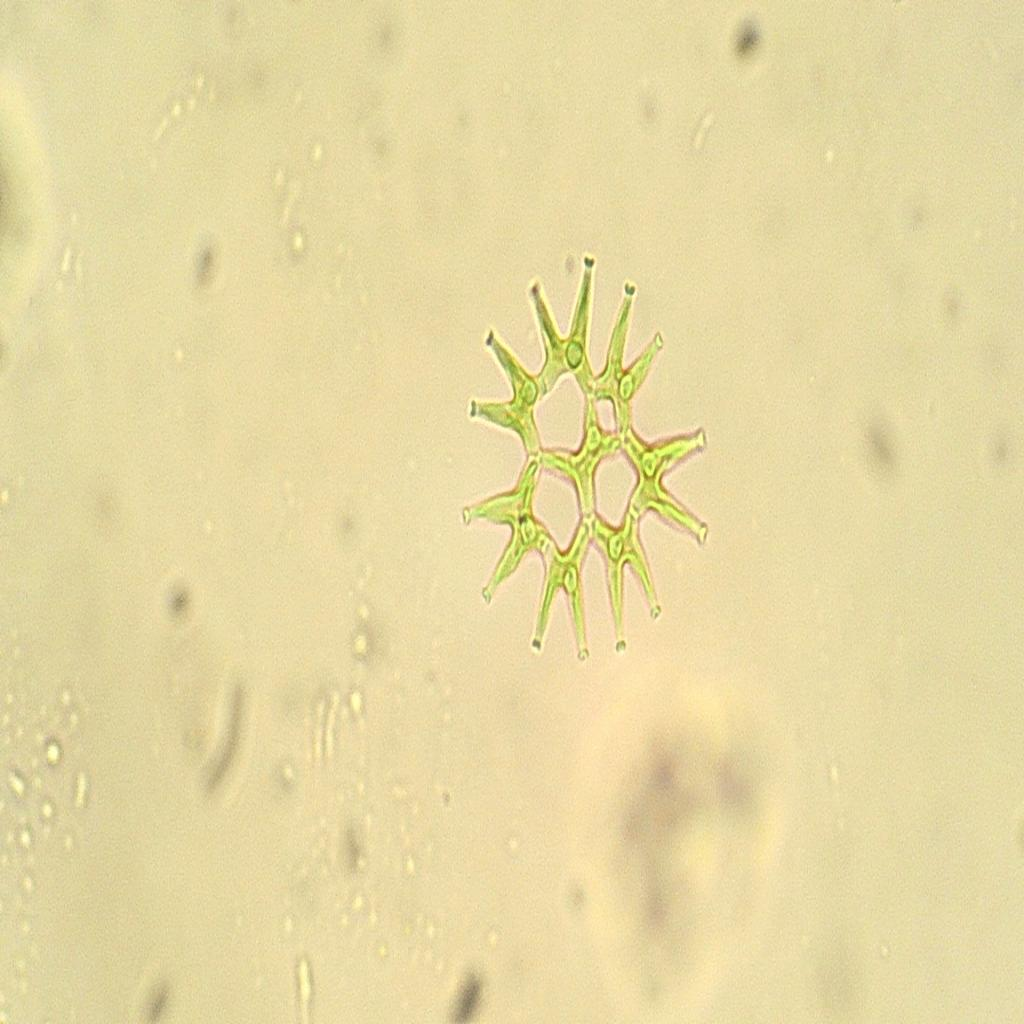Pediastrum_75T: (440, 232, 739, 705)
